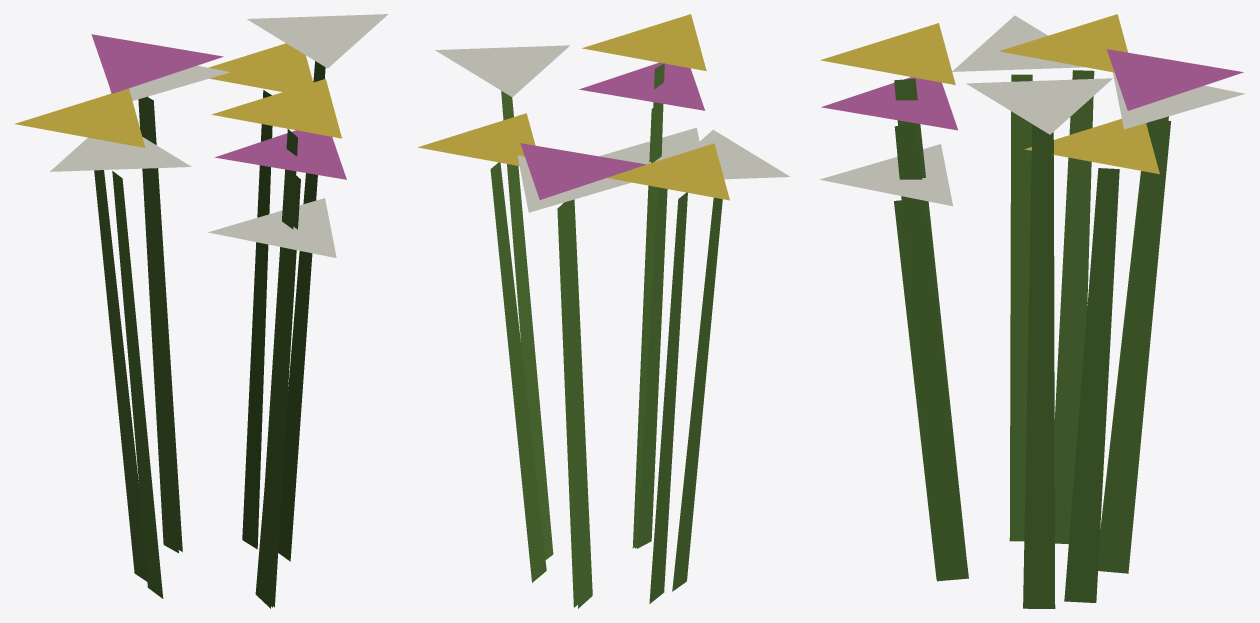
File: wildflower.glb
3 renders of one model, left to right at view 1: azimuth 30°, elevation 25°; view 2: azimuth 150°, elevation 25°; view 3: azimuth 270°, elevation 25°, orthographic. The views are drawn at different scales.
Parts seen in each view (by area): view 1: wildflower-b, wildflower-a, wildflower-c; view 2: wildflower-b, wildflower-a, wildflower-c; view 3: wildflower-b, wildflower-a, wildflower-c.
Part boxes in pixels (<box>): wildflower-b: <box>50,14,388,608</box>; wildflower-a: <box>15,43,341,607</box>; wildflower-c: <box>91,34,346,607</box>; wildflower-b: <box>435,45,790,607</box>; wildflower-a: <box>417,14,729,603</box>; wildflower-c: <box>520,62,705,608</box>; wildflower-b: <box>820,15,1245,608</box>; wildflower-a: <box>820,14,1159,602</box>; wildflower-c: <box>821,49,1243,581</box>.
Size of the model in its own units: 0.1435 by 0.1974 by 0.1435.
